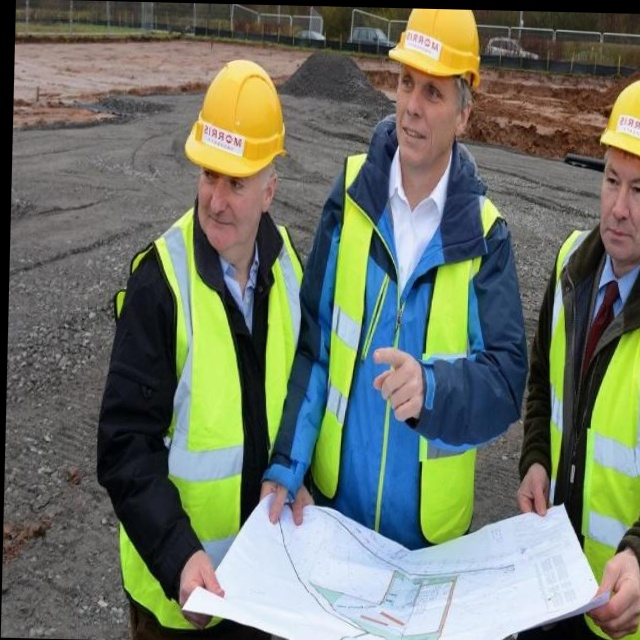Con_Casco: (182, 60, 287, 223), (389, 8, 484, 150), (597, 73, 640, 230)
Con_Chaleco: (110, 223, 300, 613), (303, 154, 492, 541), (545, 237, 640, 640)
